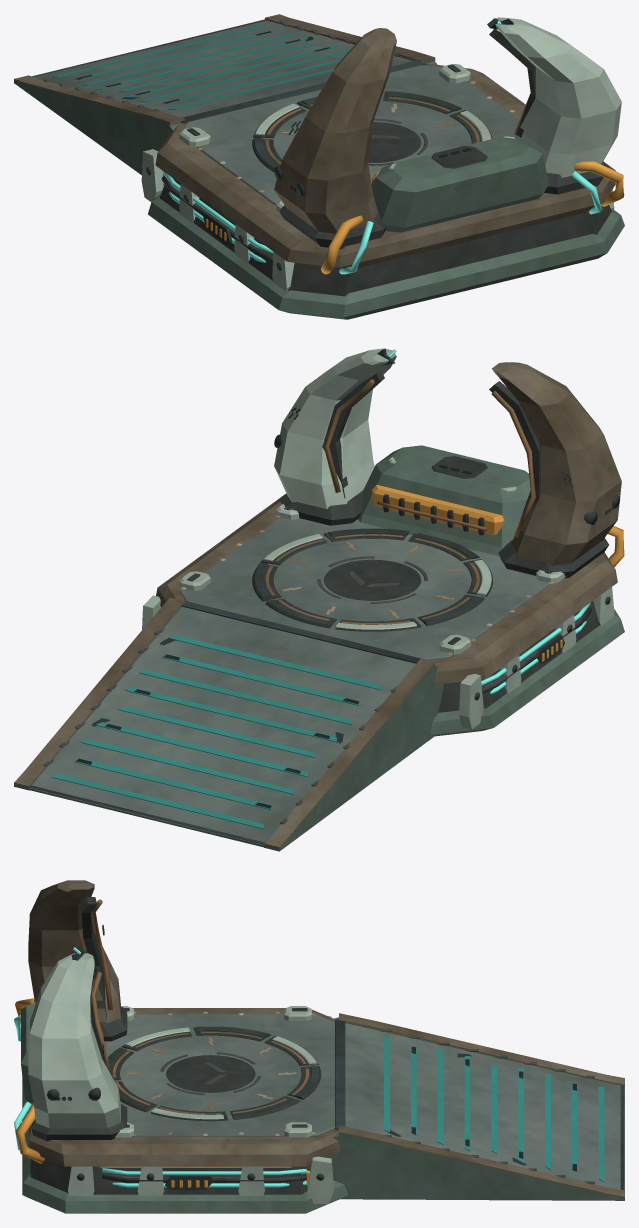
File: NR01_Purifier_LOD0.obj
3 views of the same model, one above another, from view 1: azimuth 30°, elevation 25°; view 2: azimuth 150°, elevation 25°; view 3: azimuth 270°, elevation 25° (orthographic). The views are drawn at different scales.
Visible parts, largest first — view 1: NR01_Purifier_LOD0; view 2: NR01_Purifier_LOD0; view 3: NR01_Purifier_LOD0.
Part boxes in pixels (x1,y1,x2,y2): NR01_Purifier_LOD0: (14, 14, 624, 319); NR01_Purifier_LOD0: (14, 348, 624, 851); NR01_Purifier_LOD0: (14, 880, 624, 1213).
Bounding box in the file's own units: 3.13 × 2.15 × 5.22.
